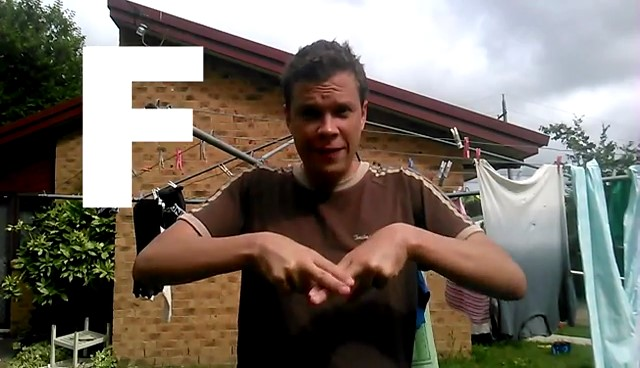F: (260, 218, 422, 312)
